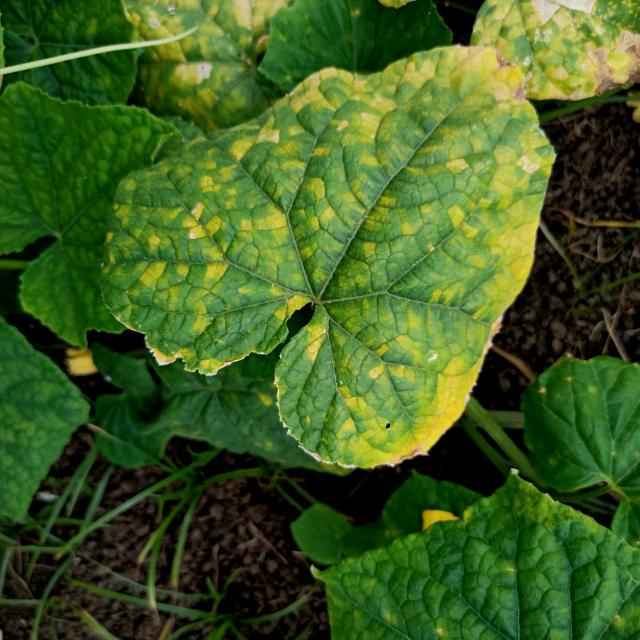disease_cucumber: (114, 50, 559, 470)
